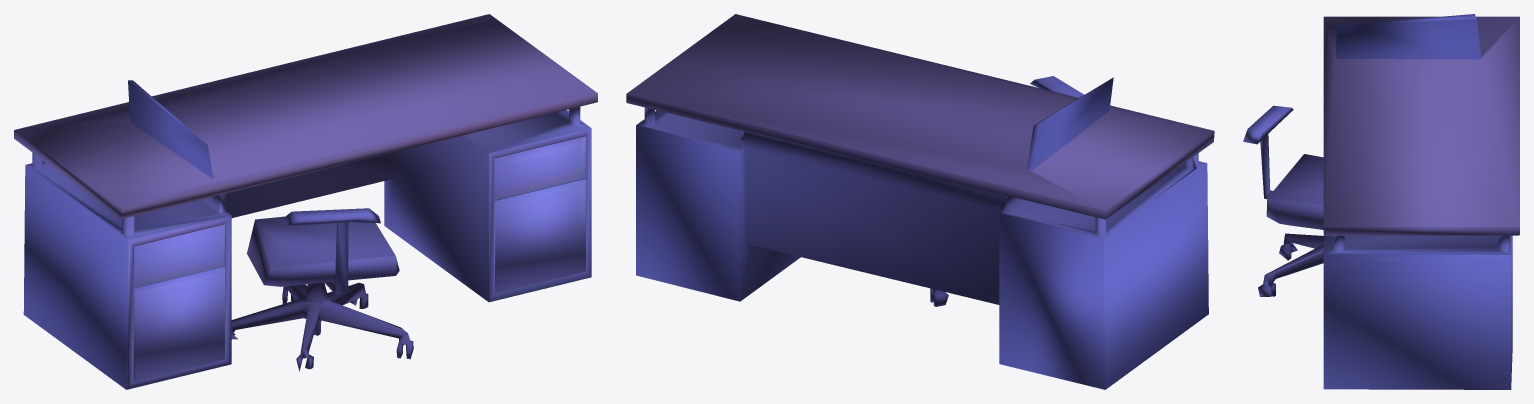
The model's file is model.progressive.glb.
3 renders of one model, left to right at view 1: azimuth 30°, elevation 25°; view 2: azimuth 150°, elevation 25°; view 3: azimuth 270°, elevation 25°, orthographic. The views are drawn at different scales.
Parts seen in each view (by area): view 1: texture_pbr_20250901; view 2: texture_pbr_20250901; view 3: texture_pbr_20250901.
Part boxes in pixels (x1,y1,x2,y2): texture_pbr_20250901: [14, 14, 597, 389]; texture_pbr_20250901: [626, 14, 1214, 389]; texture_pbr_20250901: [1243, 14, 1519, 389].
Size of the model in its own units: 1.89 by 0.888 by 1.05.
Materials: 1 (1 with a texture image).
